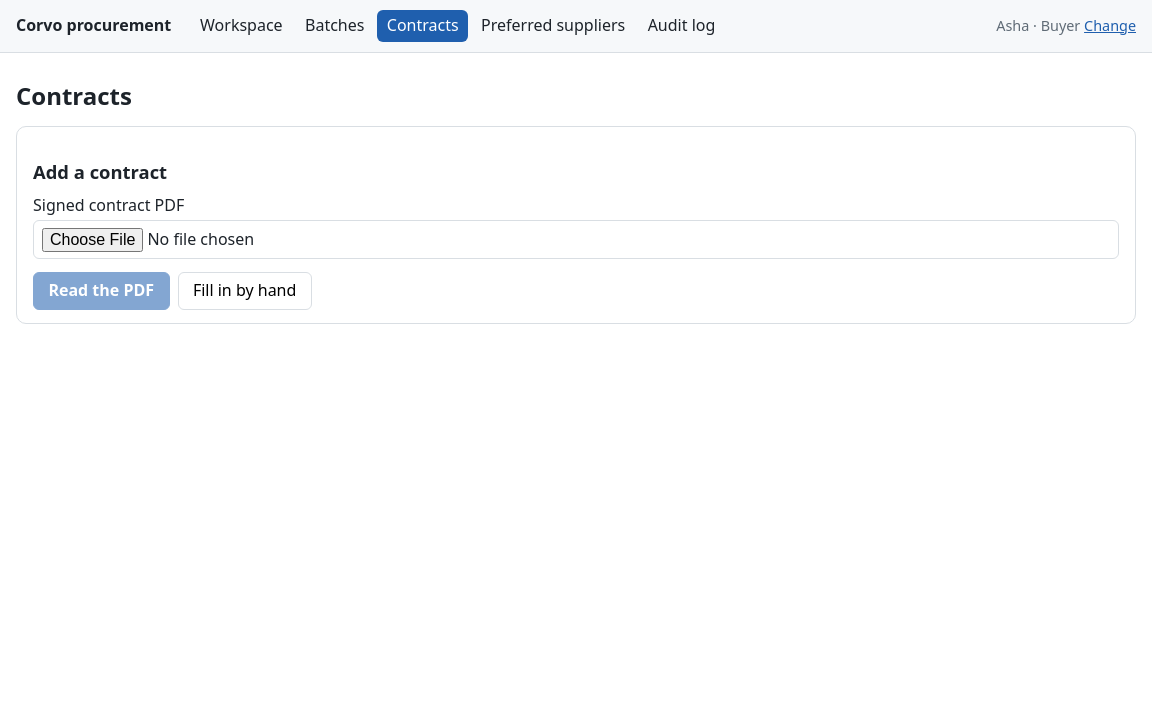
keyboard and reloads (S3) › Enter in the contract form opens the confirmation and saves nothing by itself
Click the button "Fill in by hand".
click(245, 291)  # box [178,272,312,310]
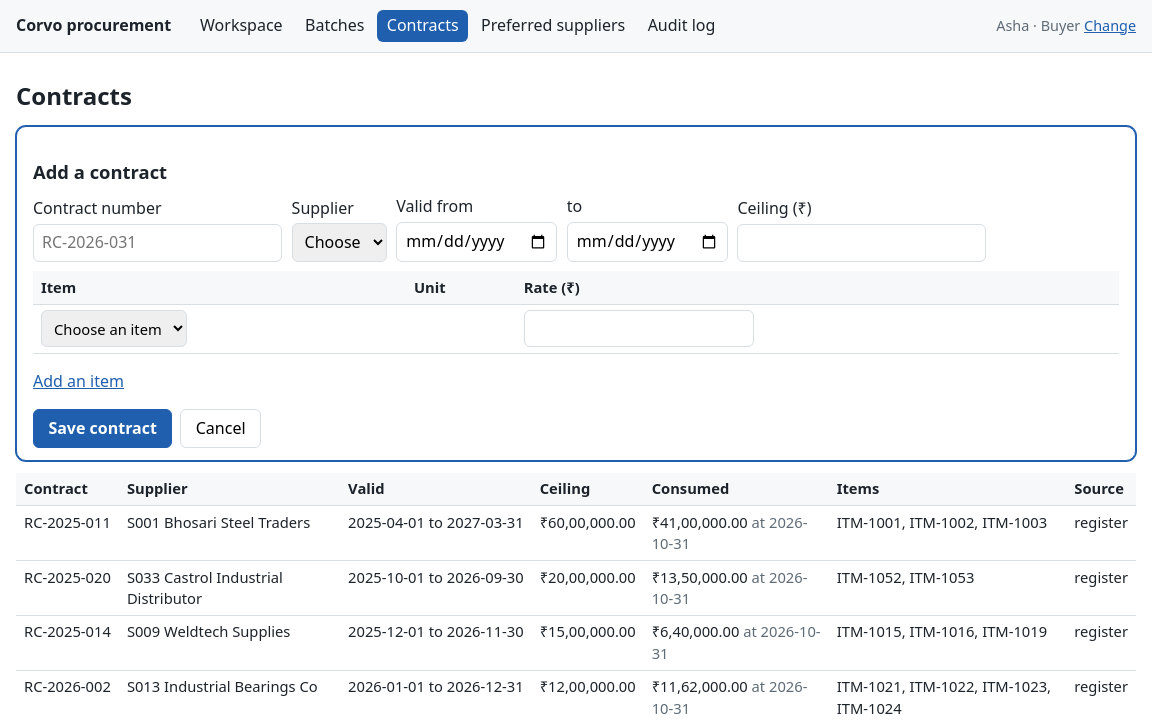
Submit the form labelled "Contract number", box [33,195,1119,448]
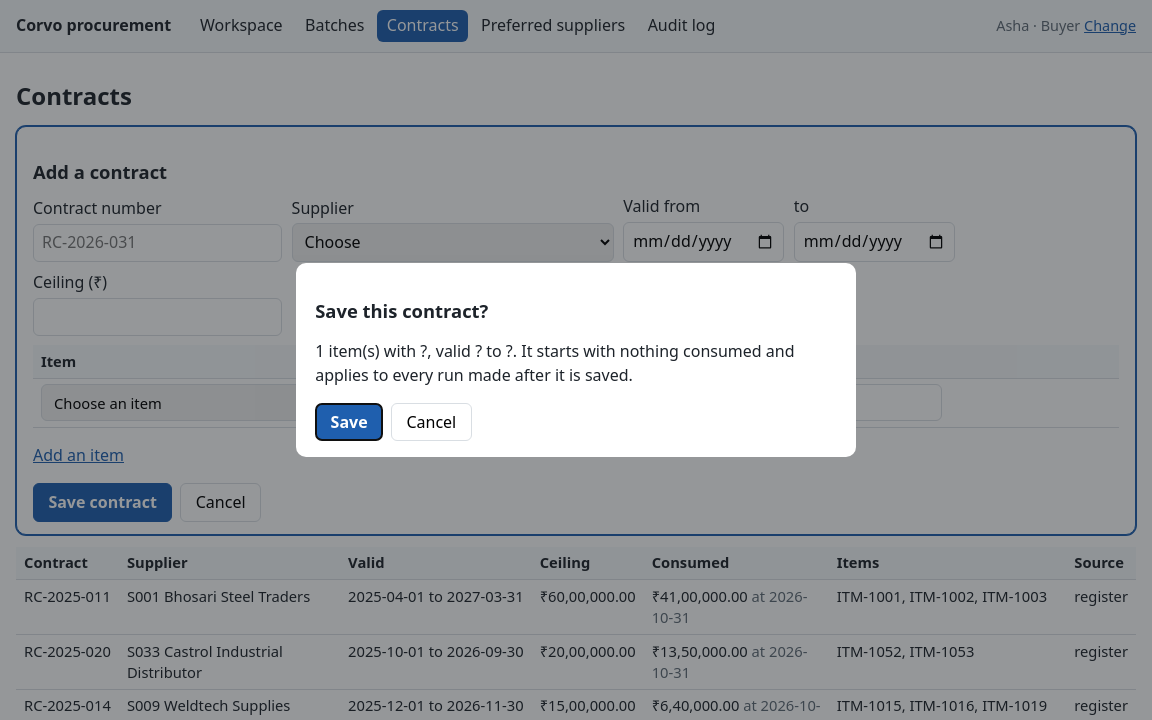
Check: the dialog is shown, box [296,263,856,458]
